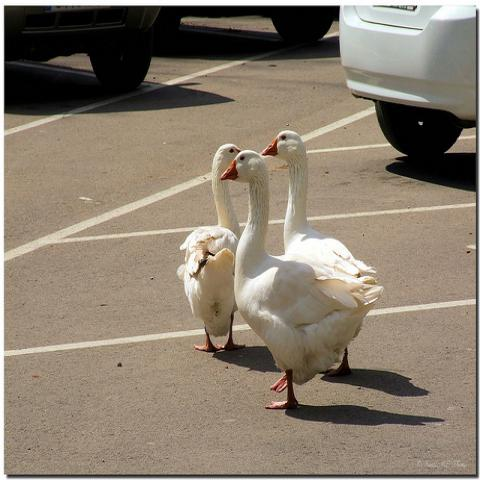car: (340, 0, 478, 160), (6, 6, 162, 87)
